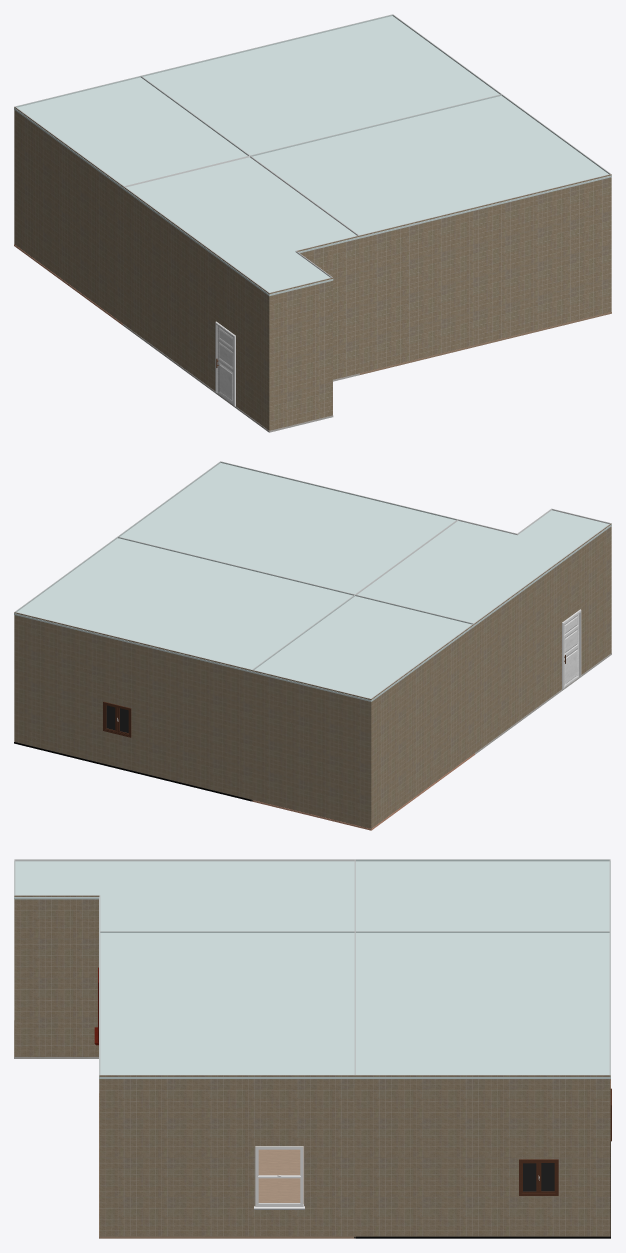
The model's file is ProcTHOR-Train-188.glb.
3 renders of one model, top to bottom at view 1: azimuth 30°, elevation 25°; view 2: azimuth 150°, elevation 25°; view 3: azimuth 270°, elevation 25°, orthographic. The views are drawn at different scales.
Visible parts, largest first — view 1: WallInside#wall|exterior|0.00|11.74|7.83|11.74, Ceiling#room|6|c, Ceiling#room|4|c, WallInside#wall|exterior|11.74|5.87|11.74|13.70, Ceiling#room|7|c, WallInside#wall|exterior|11.74|0.00|11.74|5.87, Ceiling#room|5|c, WallInside#wall|exterior|9.79|13.70|11.74|13.70, WallInside#wall|exterior|7.83|11.74|9.79|11.74, Doorway_8, Floor#room|6|f, Floor#room|7|f; view 2: WallInside#wall|exterior|0.00|0.00|7.83|0.00, Ceiling#room|4|c, Ceiling#room|6|c, WallInside#wall|exterior|11.74|5.87|11.74|13.70, WallInside#wall|exterior|7.83|0.00|11.74|0.00, Ceiling#room|7|c, WallInside#wall|exterior|11.74|0.00|11.74|5.87, Ceiling#room|5|c, Doorway_8, Floor#room|4|f, Floor#room|5|f, Window_Slider_36x36; view 3: WallInside#wall|exterior|0.00|0.00|0.00|5.87, WallInside#wall|exterior|0.00|5.87|0.00|11.74, Ceiling#room|4|c, Ceiling#room|6|c, Ceiling#room|7|c, Ceiling#room|5|c, WallInside#wall|exterior|9.79|11.74|9.79|13.70, Floor#room|6|f, Floor#room|4|f, Window_Hung_44x60, WallInside#wall|7|11.74|5.87|11.74|13.70, Window_Slider_36x36 (+3 smaller).
Boxes of the visible parts, x1,y1,x2,y2 form: WallInside#wall|exterior|0.00|11.74|7.83|11.74: (359, 174, 611, 373); Ceiling#room|6|c: (252, 95, 611, 238); Ceiling#room|4|c: (142, 16, 499, 155); WallInside#wall|exterior|11.74|5.87|11.74|13.70: (123, 186, 269, 430); Ceiling#room|7|c: (123, 157, 358, 296); WallInside#wall|exterior|11.74|0.00|11.74|5.87: (14, 107, 123, 323); Ceiling#room|5|c: (14, 77, 247, 188); WallInside#wall|exterior|9.79|13.70|11.74|13.70: (269, 277, 332, 430); WallInside#wall|exterior|7.83|11.74|9.79|11.74: (297, 235, 359, 379); Doorway_8: (215, 321, 235, 406); Floor#room|6|f: (359, 312, 611, 374); Floor#room|7|f: (123, 324, 359, 432); WallInside#wall|exterior|0.00|0.00|7.83|0.00: (14, 612, 252, 799); Ceiling#room|4|c: (14, 538, 353, 672); Ceiling#room|6|c: (119, 463, 455, 594); WallInside#wall|exterior|11.74|5.87|11.74|13.70: (474, 523, 611, 753); WallInside#wall|exterior|7.83|0.00|11.74|0.00: (252, 670, 371, 828); Ceiling#room|7|c: (357, 510, 611, 625); WallInside#wall|exterior|11.74|0.00|11.74|5.87: (371, 624, 474, 828); Ceiling#room|5|c: (251, 596, 474, 701); Doorway_8: (562, 609, 581, 689); Floor#room|4|f: (14, 705, 252, 801); Floor#room|5|f: (251, 753, 474, 830); Window_Slider_36x36: (103, 701, 131, 737); WallInside#wall|exterior|0.00|0.00|0.00|5.87: (354, 1075, 610, 1236); WallInside#wall|exterior|0.00|5.87|0.00|11.74: (99, 1075, 355, 1236); Ceiling#room|4|c: (354, 933, 610, 1078); Ceiling#room|6|c: (99, 933, 355, 1078); Ceiling#room|7|c: (14, 861, 355, 932); Ceiling#room|5|c: (354, 861, 610, 932); WallInside#wall|exterior|9.79|11.74|9.79|13.70: (14, 895, 99, 1056); Floor#room|6|f: (99, 1093, 355, 1238); Floor#room|4|f: (354, 1141, 610, 1238); Window_Hung_44x60: (254, 1146, 304, 1209); WallInside#wall|7|11.74|5.87|11.74|13.70: (15, 859, 354, 861); Window_Slider_36x36: (519, 1159, 558, 1195).
Size of what is drawn, in the model's own units: 11.95 by 4.14 by 13.76.
Materials: 332 (140 with a texture image).
